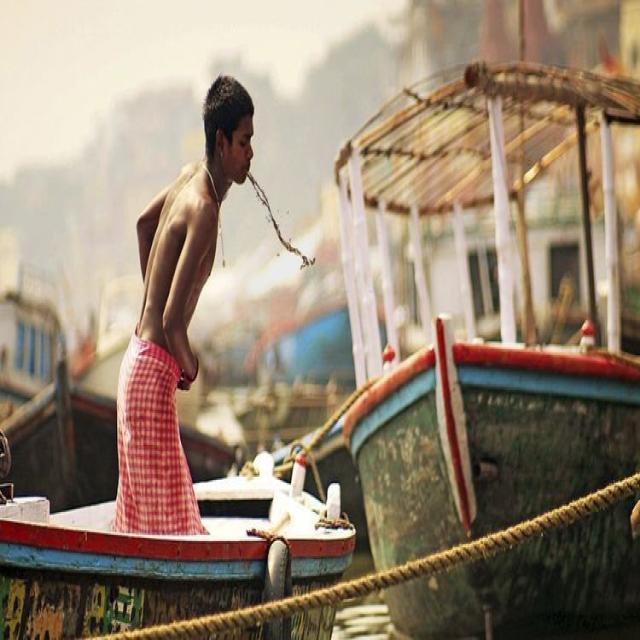Spitting: (198, 75, 280, 267)
